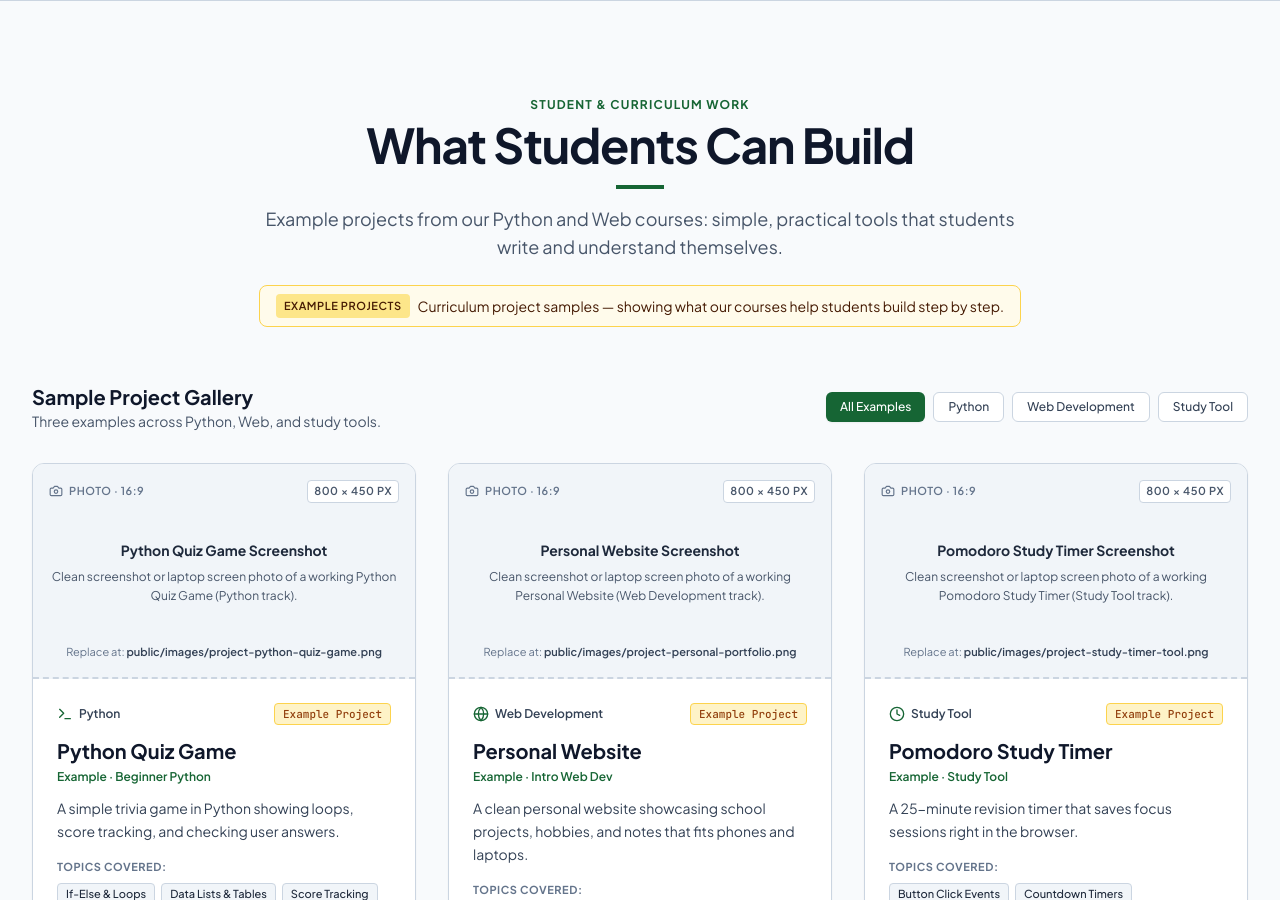
Showcase Section Component › filters project cards when category filter tabs are clicked
The image size is (1280, 900).
Click the button "Python" at (969, 407), box [933,392,1004,422]
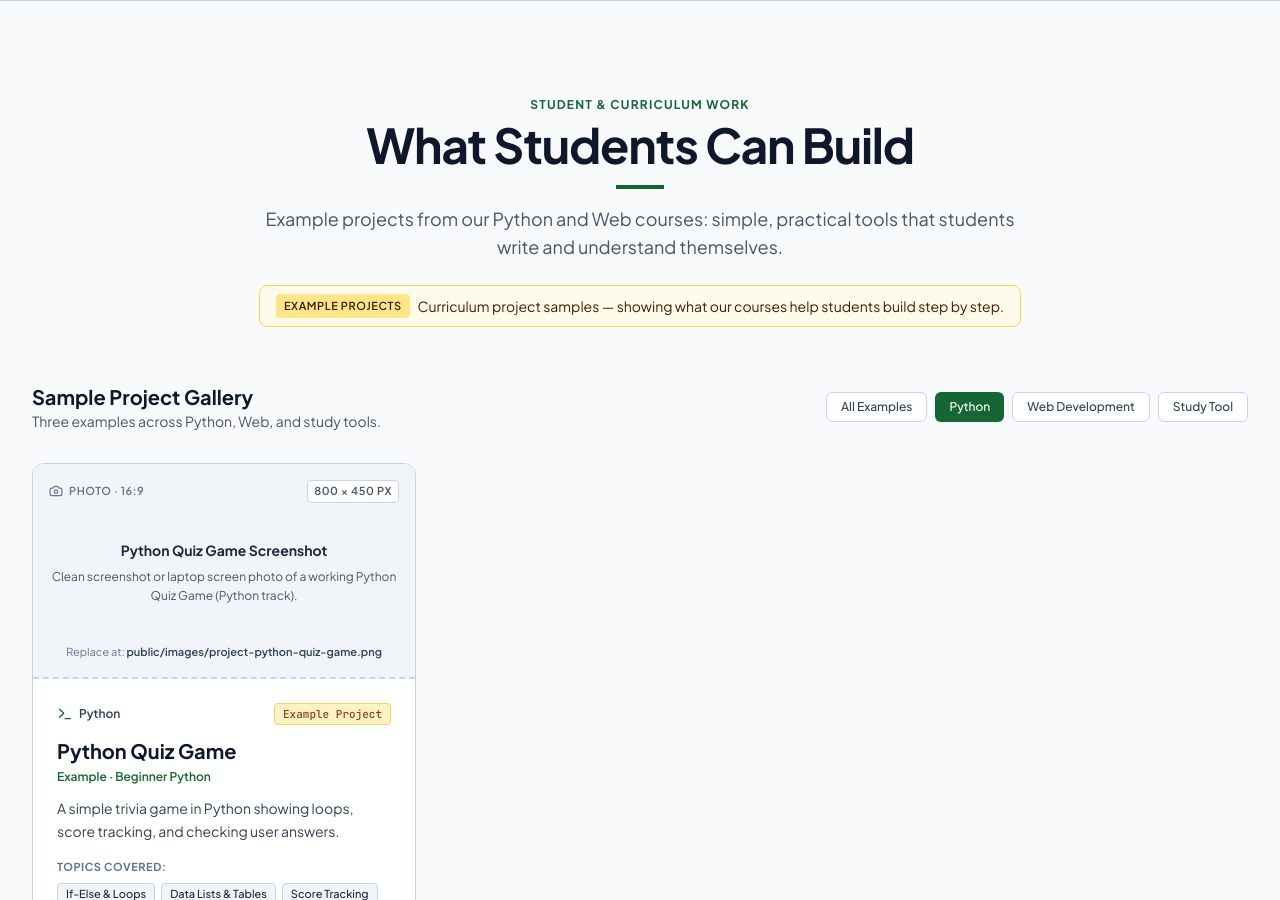
Expected: the heading "Python Quiz Game" is shown, [57,738,236,763]
Expected: the text "Personal Website" is gone
Note: Reset filter
Click the button "All Examples" at (877, 407), box [826,392,927,422]
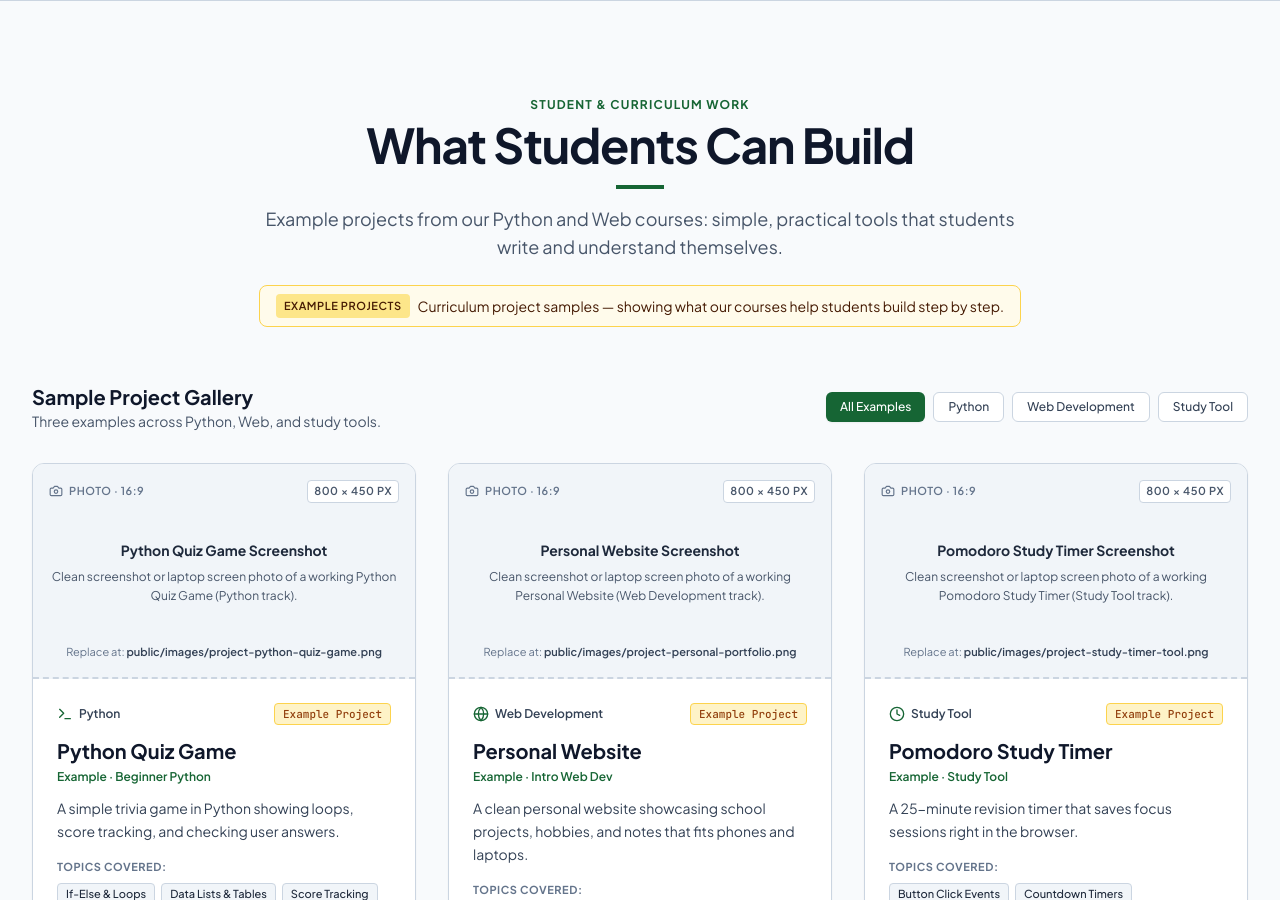
Expected: the heading "Personal Website" is shown, [473,738,642,763]
